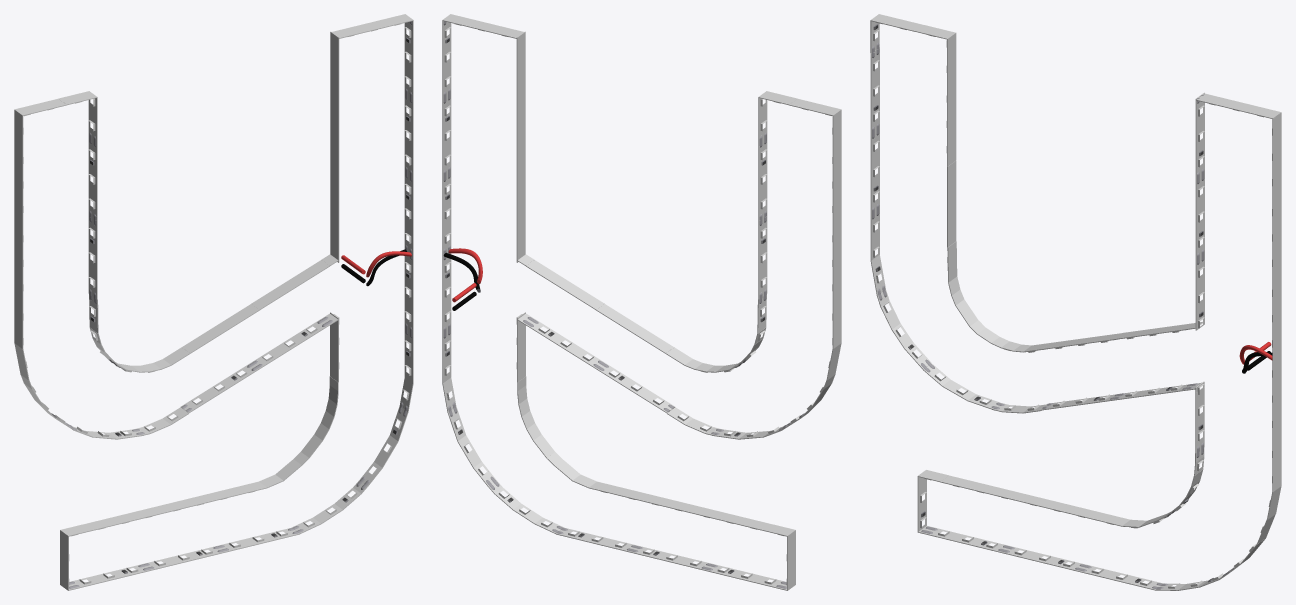
File: FIXED-LED.glb
3 renders of one model, left to right at view 1: azimuth 30°, elevation 25°; view 2: azimuth 150°, elevation 25°; view 3: azimuth 330°, elevation 25°, orthographic. The views are drawn at different scales.
Visible parts, largest first — view 1: FIXED-LED; view 2: FIXED-LED; view 3: FIXED-LED.
Boxes of the visible parts, <box> form: FIXED-LED: <box>14,14,413,590</box>; FIXED-LED: <box>442,14,841,590</box>; FIXED-LED: <box>870,14,1281,590</box>.
Bounding box in the file's own units: 40.84 × 48.62 × 6.06.
